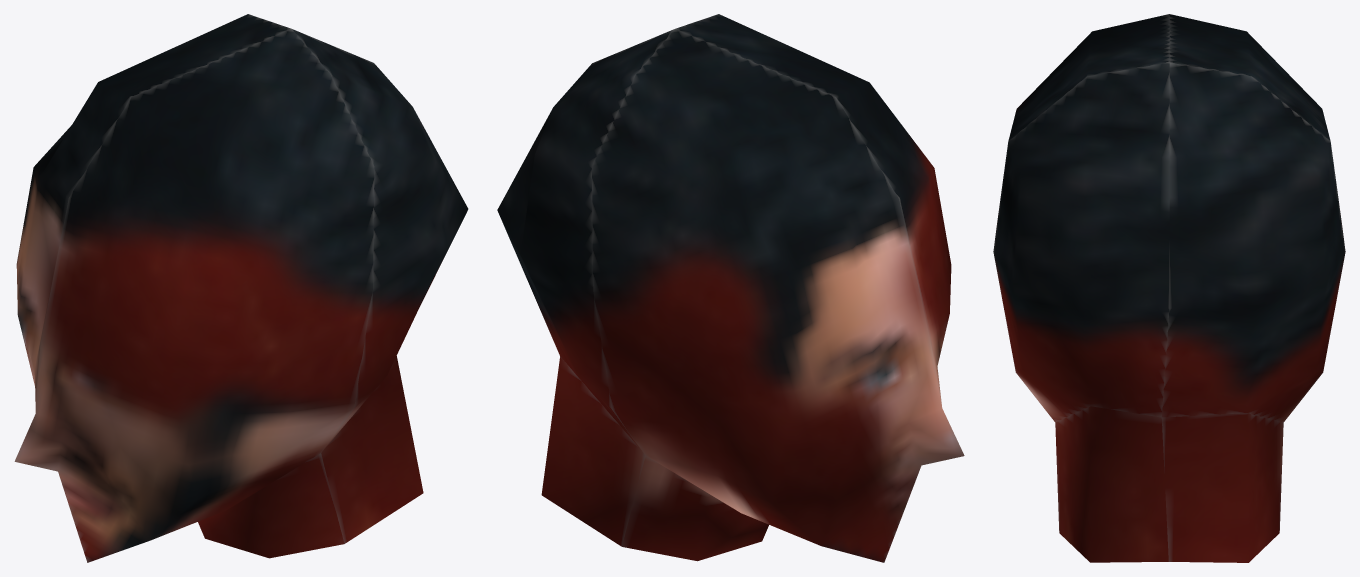
File: head.fbx
3 views of the same model, side by side, from view 1: azimuth 30°, elevation 25°; view 2: azimuth 150°, elevation 25°; view 3: azimuth 270°, elevation 25° (orthographic).
Visible parts, largest first — view 1: Cube.040; view 2: Cube.040; view 3: Cube.040.
Part boxes in pixels (left/top/right/bottom): Cube.040: left=14, top=14, right=468, bottom=562; Cube.040: left=497, top=14, right=964, bottom=562; Cube.040: left=993, top=14, right=1345, bottom=562.
Size of the model in its own units: 148 by 163 by 107.
Materials: 1 (1 with a texture image).
